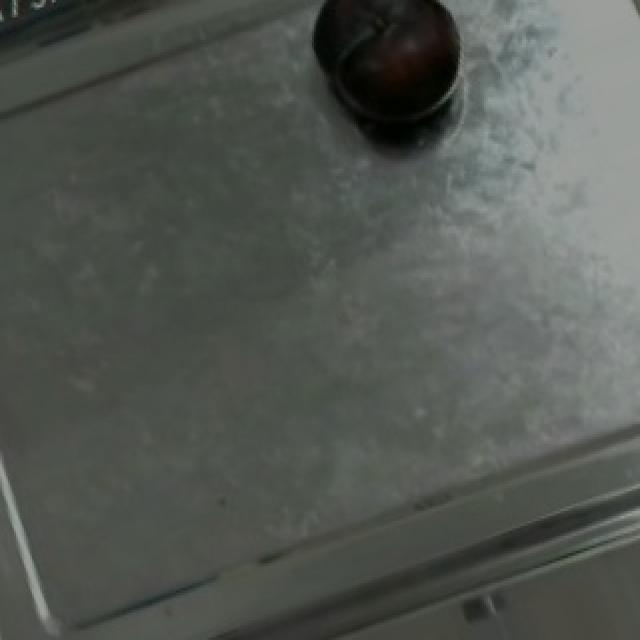Fruit: (296, 0, 478, 146)
